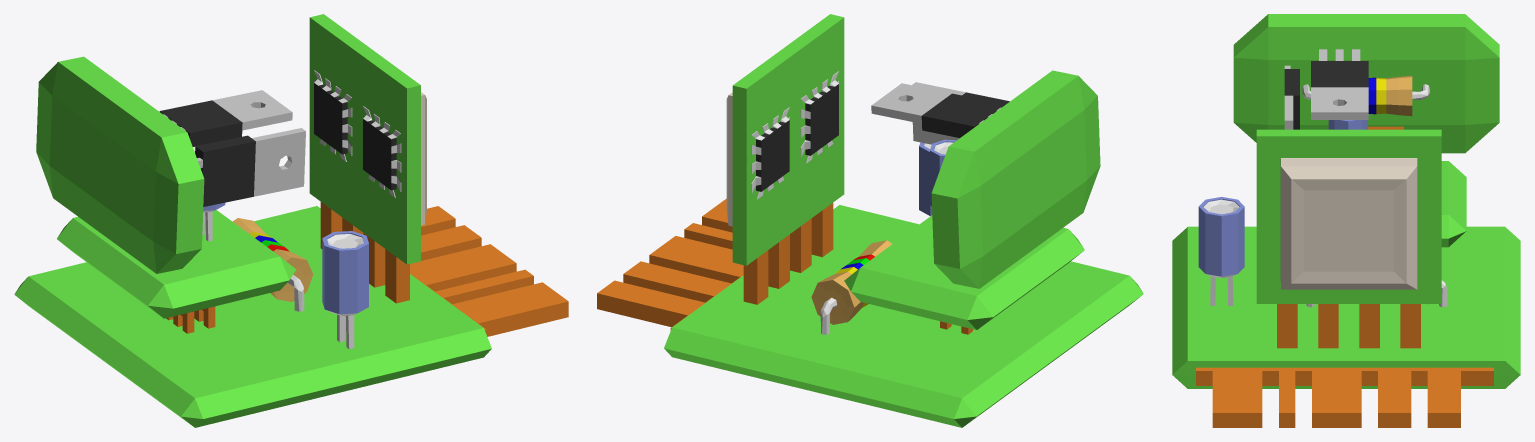
Rendered from MinerElectricalController_Item.fbx.
The picture shows the model from 3 angles, left to right: view 1: azimuth 30°, elevation 25°; view 2: azimuth 150°, elevation 25°; view 3: azimuth 270°, elevation 25°; orthographic projection. The views are drawn at different scales.
Parts seen in each view (by area): view 1: Cube; view 2: Cube; view 3: Cube.
Boxes of the visible parts, x1=… form: Cube: x1=14, y1=14, x2=568, y2=427; Cube: x1=597, y1=14, x2=1143, y2=427; Cube: x1=1172, y1=14, x2=1520, y2=427.
Bounding box in the file's own units: 127 × 77.65 × 100.
